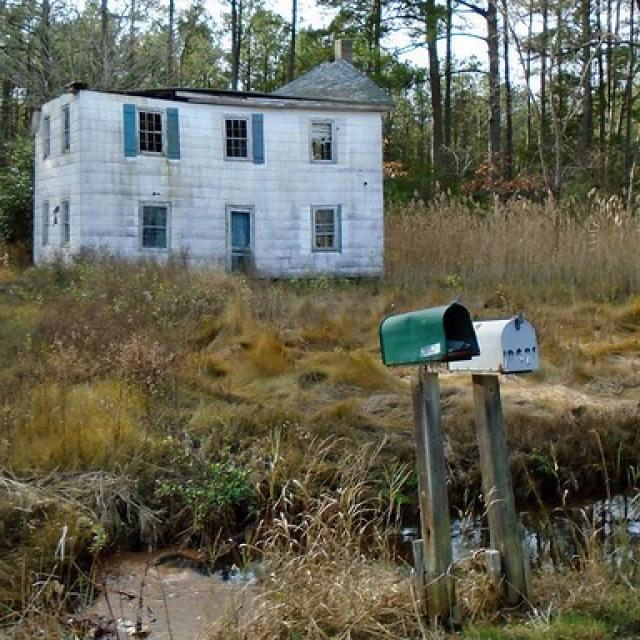Normal_building: (29, 54, 399, 286)
